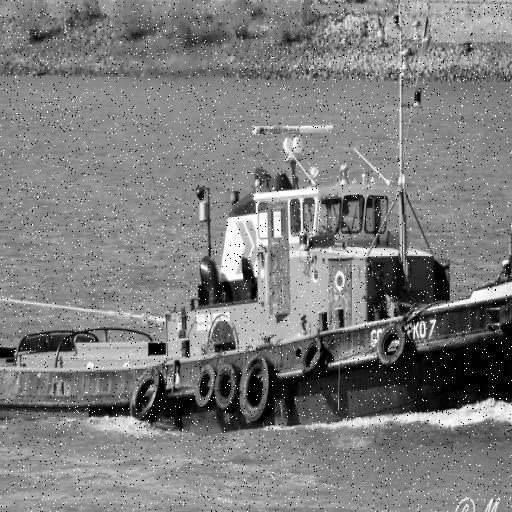tugboat: (1, 114, 512, 451)
